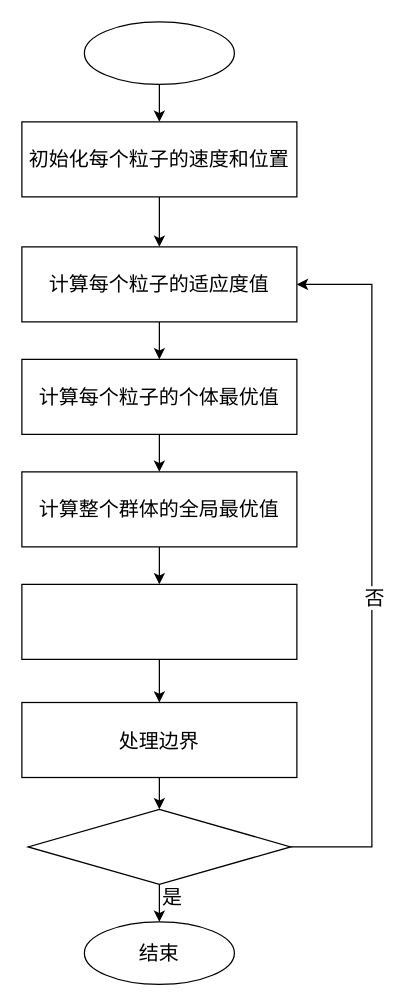
Some shapes in this 405 by 1006 pixel diagram are drawn without their labels. Each missing label, with the centre of its shape:
开始: the point at 158,52
是否满足结束条件: the point at 159,846
更新每个粒子的速度和位置: the point at 159,621
